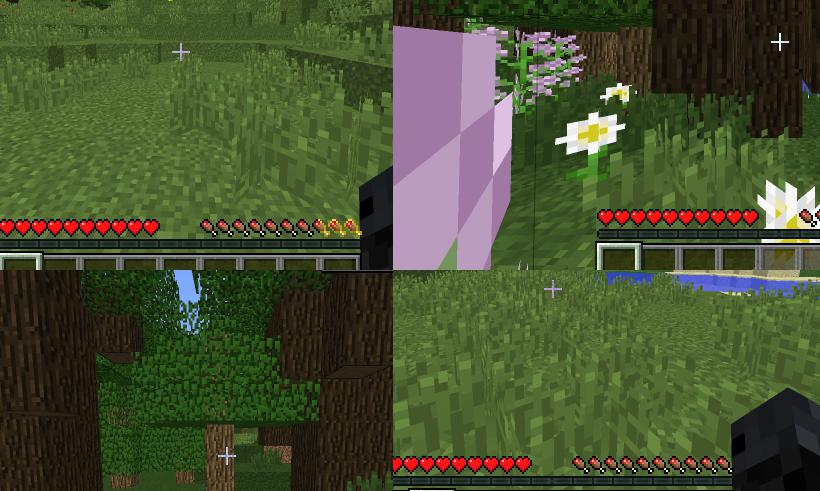minecraft-blocks: (571, 1, 741, 95), (1, 271, 70, 491), (304, 376, 393, 491), (747, 1, 802, 139), (322, 273, 390, 377), (275, 295, 319, 377), (611, 29, 652, 102), (204, 424, 235, 491), (569, 32, 608, 81), (177, 472, 196, 489), (65, 1, 80, 4)
